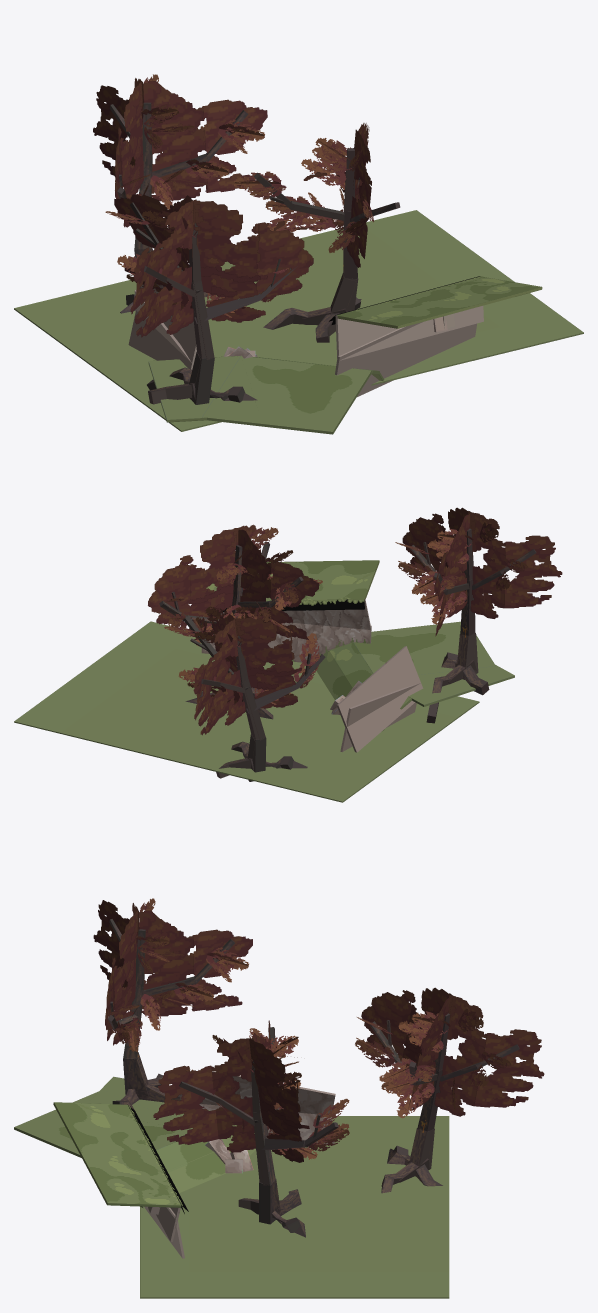
The model's file is placeholder.fbx.
3 views of the same model, one above another, from view 1: azimuth 30°, elevation 25°; view 2: azimuth 150°, elevation 25°; view 3: azimuth 270°, elevation 25° (orthographic). The views are drawn at different scales.
Visible parts, largest first — view 1: cube, cube_3, cube_119, cube_10, cube_181, cube_9, cube_120, cube_122, cube_8, cube_186, cube_6, cube_182 (+11 smaller); view 2: cube, cube_3, cube_5, cube_182, cube_51, cube_121, cube_10, cube_120, cube_183, cube_9, cube_49, cube_52 (+14 smaller); view 3: cube, cube_10, cube_54, cube_51, cube_118, cube_184, cube_53, cube_183, cube_3, cube_212, cube_185, cube_119 (+11 smaller).
Part boxes in pixels (x1=…): cube: x1=14, y1=210, x2=583, y2=431; cube_3: x1=202, y1=356, x2=371, y2=434; cube_119: x1=193, y1=200, x2=260, y2=322; cube_10: x1=336, y1=276, x2=542, y2=328; cube_181: x1=143, y1=81, x2=207, y2=201; cube_9: x1=335, y1=322, x2=476, y2=396; cube_120: x1=159, y1=199, x2=196, y2=334; cube_122: x1=255, y1=222, x2=313, y2=317; cube_8: x1=335, y1=306, x2=483, y2=360; cube_186: x1=202, y1=99, x2=267, y2=192; cube_6: x1=148, y1=356, x2=256, y2=422; cube_182: x1=118, y1=81, x2=143, y2=227; cube: x1=14, y1=621, x2=479, y2=802; cube_3: x1=354, y1=621, x2=495, y2=674; cube_5: x1=336, y1=646, x2=423, y2=752; cube_182: x1=235, y1=617, x2=297, y2=708; cube_51: x1=187, y1=528, x2=237, y2=636; cube_121: x1=504, y1=535, x2=562, y2=608; cube_10: x1=206, y1=560, x2=379, y2=600; cube_120: x1=468, y1=512, x2=505, y2=618; cube_183: x1=211, y1=617, x2=245, y2=725; cube_9: x1=201, y1=616, x2=371, y2=662; cube_49: x1=238, y1=529, x2=271, y2=622; cube_52: x1=148, y1=555, x2=190, y2=635; cube: x1=140, y1=1116, x2=449, y2=1298; cube_10: x1=53, y1=1102, x2=181, y2=1207; cube_54: x1=153, y1=1065, x2=218, y2=1144; cube_51: x1=249, y1=1039, x2=303, y2=1162; cube_118: x1=139, y1=910, x2=193, y2=1016; cube_184: x1=474, y1=1029, x2=544, y2=1107; cube_53: x1=211, y1=1038, x2=255, y2=1152; cube_183: x1=434, y1=995, x2=487, y2=1116; cube_3: x1=14, y1=1091, x2=192, y2=1157; cube_212: x1=192, y1=929, x2=252, y2=1011; cube_185: x1=361, y1=990, x2=414, y2=1057; cube_119: x1=112, y1=910, x2=137, y2=1044.
Bounding box in the file's own units: 2573 × 1457 × 2765.
Materials: 12 (12 with a texture image).
